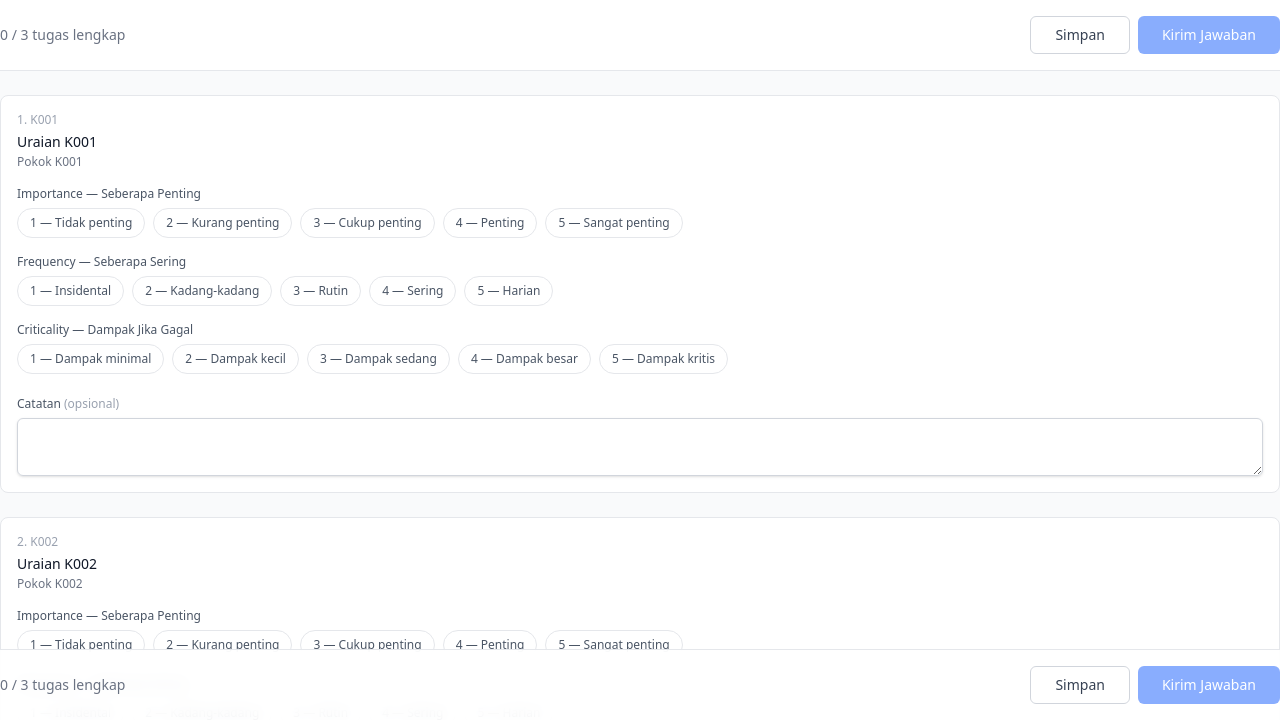
Test: OpmForm — 'Simpan' menyimpan rating parsial tanpa syarat kelengkapan (issue #56) › 'Kirim Jawaban' saat ada task belum lengkap: tombol terkunci, dan submit form tetap ditolak dengan pesan yang sudah ada — tidak ada POST
The image size is (1280, 720).
Click the radio button named "K001-importance" at [490, 223], box [443,208,538,238]
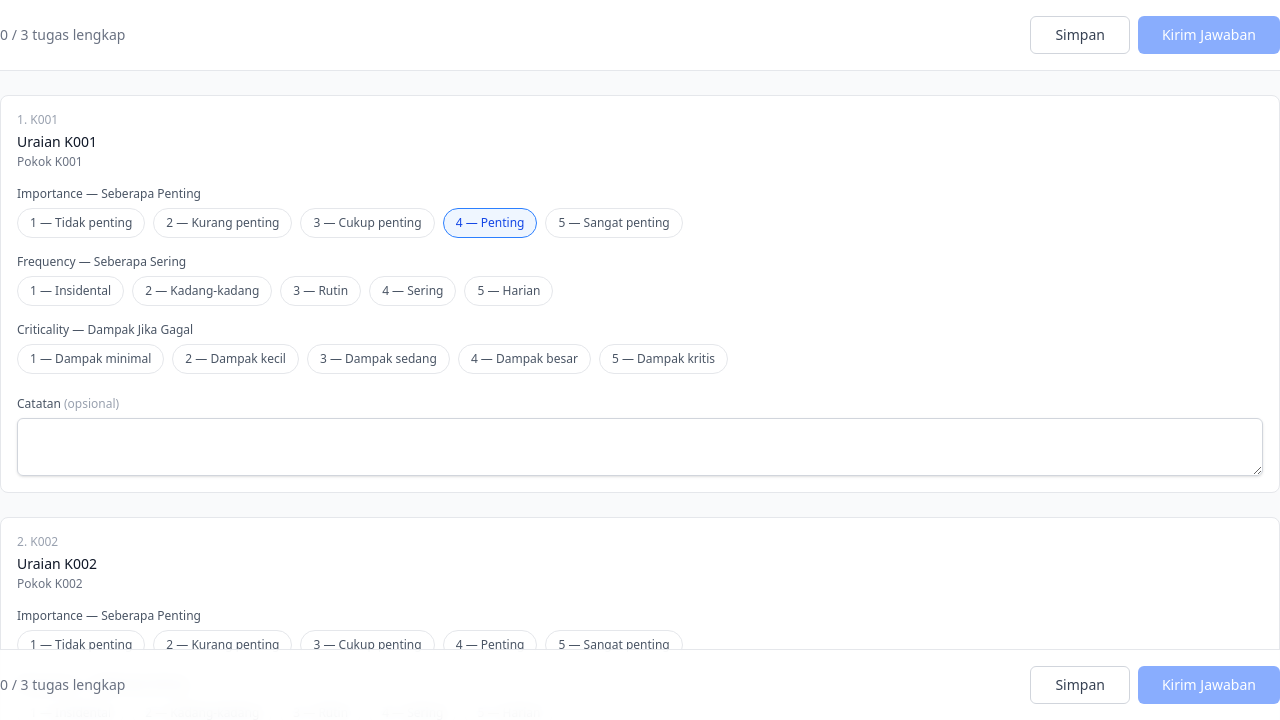
Click the 1st radio button labelled "4 — Sering" at [413, 291], box [369,276,456,306]
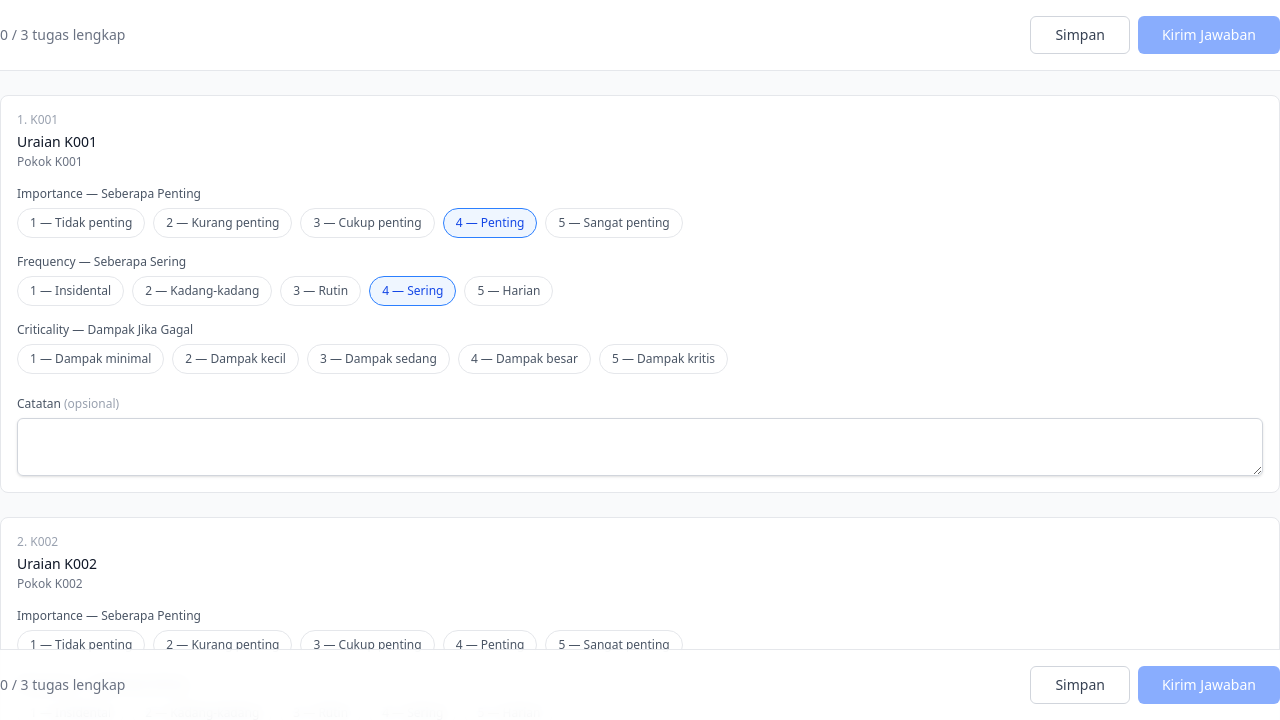
Click the radio button labelled "4 — Dampak besar" at [524, 359], box [458,344,591,374]
(page scrolled)
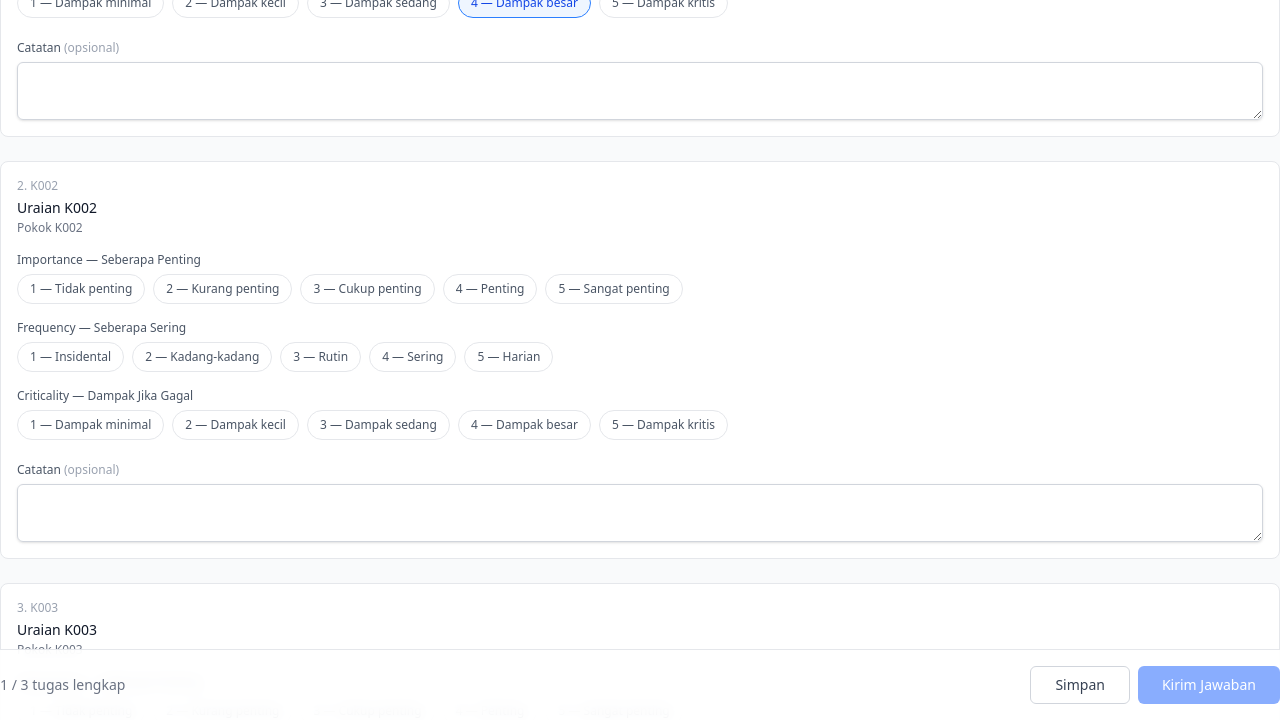
Submit the form
(page scrolled)
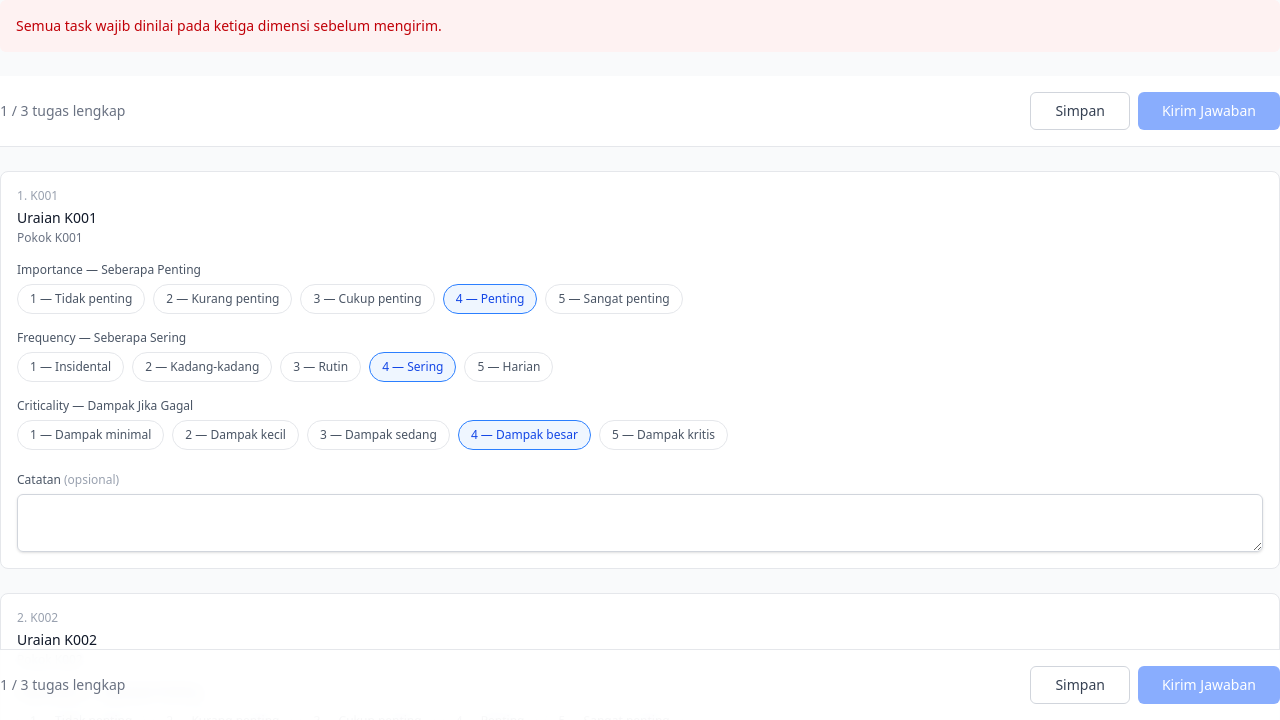
Expected: the text "Semua task wajib dinilai pada ketiga dimensi sebelum mengirim." is shown, [0,0,1279,52]
